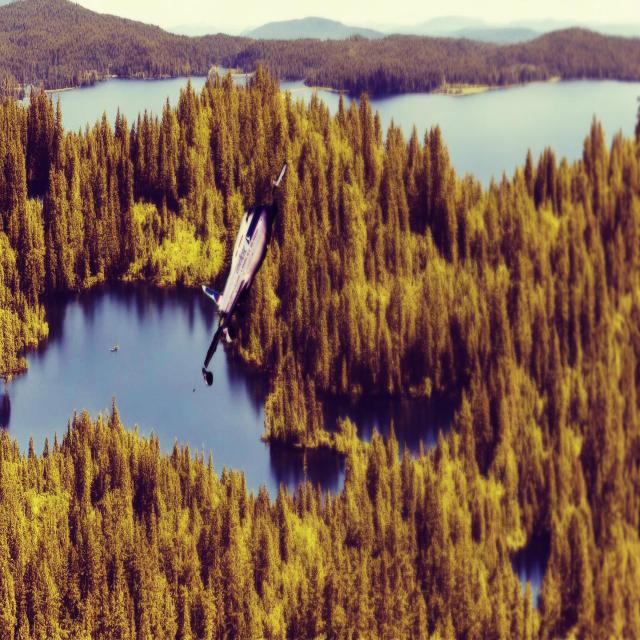airplane: (200, 161, 288, 387)
